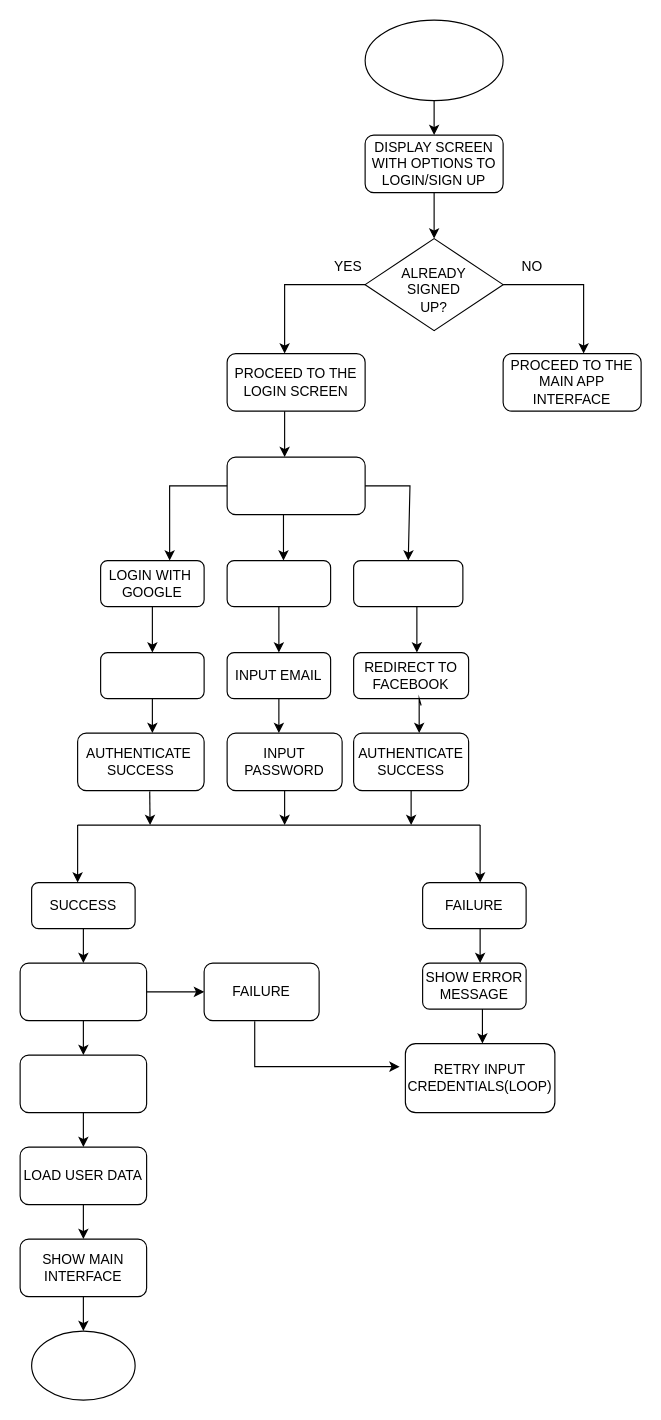
The diagram is 661 pixels wide and 1420 high, and some of its shapes have lost their labels. Here are the shapes that lost their labels. From the top down, the box of each, then its label:
(364, 19, 503, 101): OPEN MELORA APP
(226, 456, 365, 515): SELECT LOGIN METHOD
(226, 559, 331, 607): LOGIN WITH EMAIL
(352, 559, 463, 607): LOGIN WITH FACEBOOK
(99, 651, 204, 699): REDIRECT TO GOOGLE
(19, 962, 147, 1021): TWO-FACTORS AUTHENTICATION
(19, 1054, 147, 1113): CREATE USER SESSION
(30, 1330, 135, 1400): END
